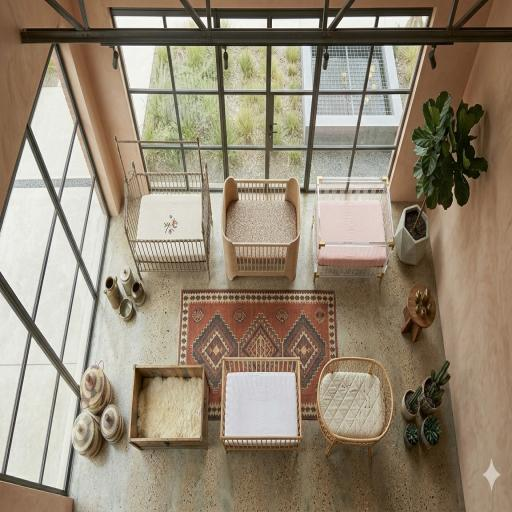crib: (125, 166, 211, 274), (313, 177, 394, 280), (222, 178, 300, 281), (221, 358, 302, 451), (318, 358, 393, 457), (127, 365, 208, 449)
